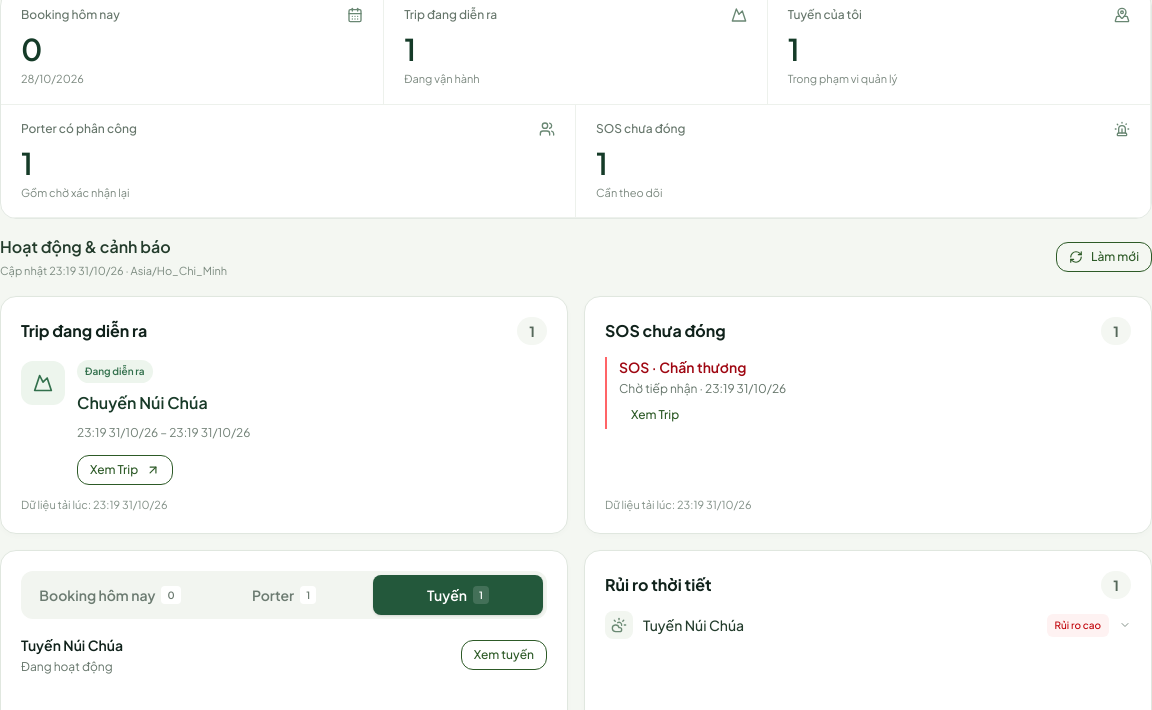
CTMS-378 HostDashboardOverview › opens an available list when today's Booking source is genuinely empty
Click the tab "Booking hôm nay 0": (110, 595) [25,575,195,615]
(page scrolled)
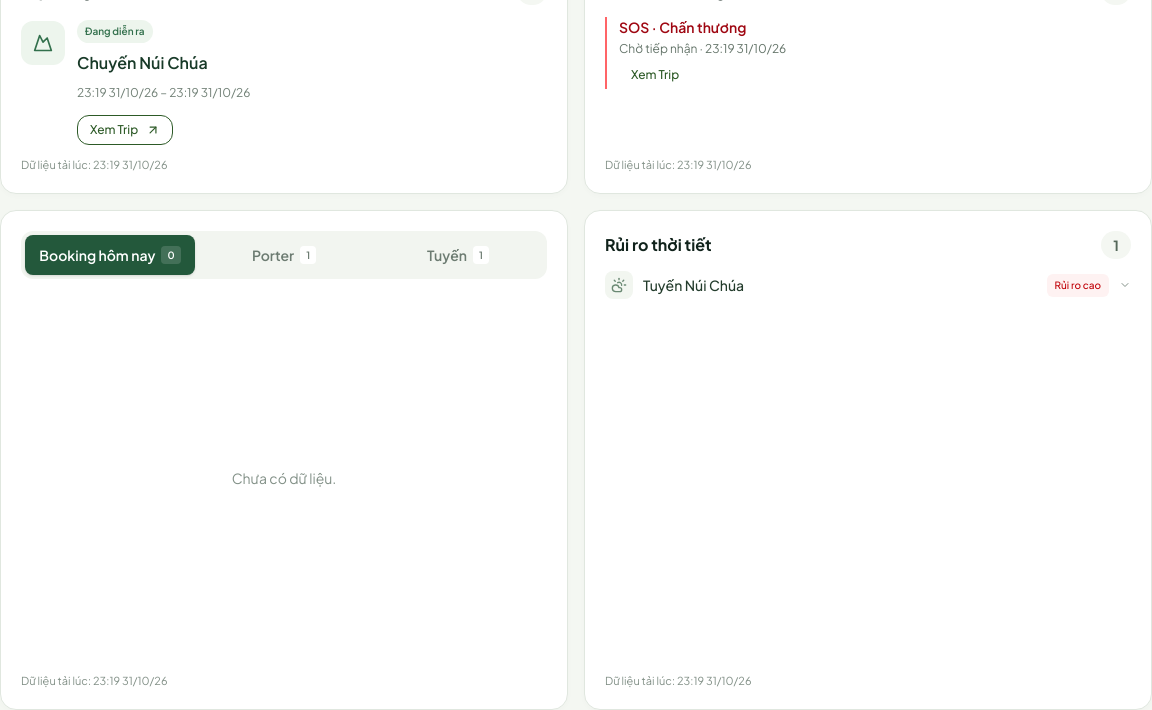
Expected: the element named "Booking hôm nay" shows "Chưa có dữ liệu.", [232,469,336,487]
